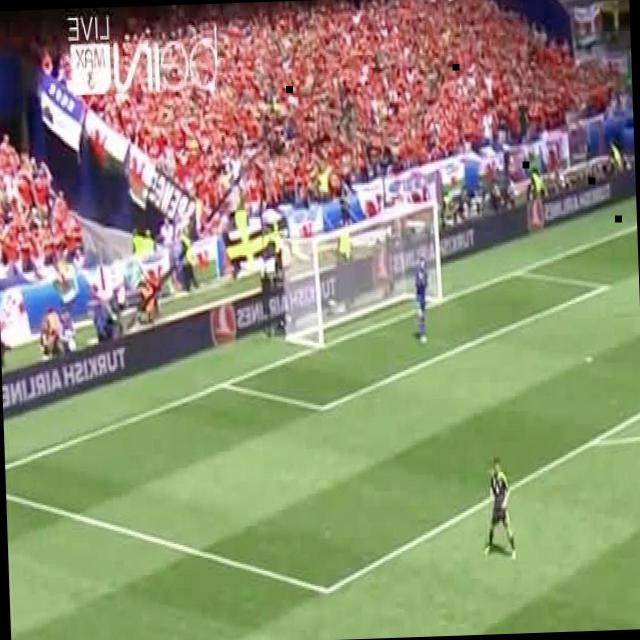player-white: (480, 456, 518, 560), (411, 253, 431, 345)
